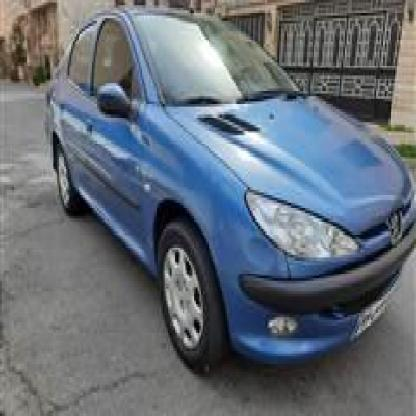Car: (40, 0, 416, 369)
